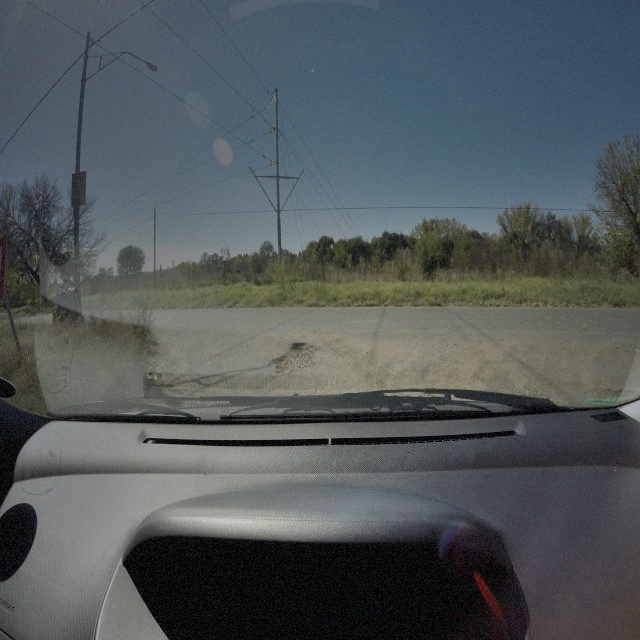pothole: (275, 346, 318, 373)
